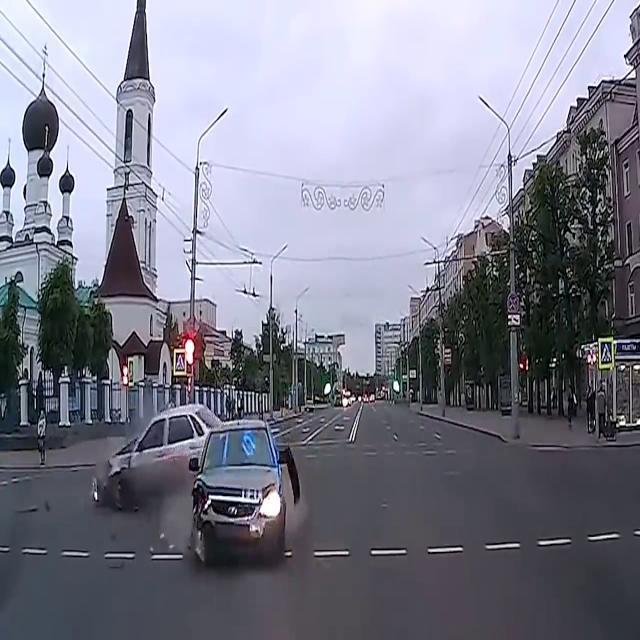accident: (94, 402, 298, 564)
